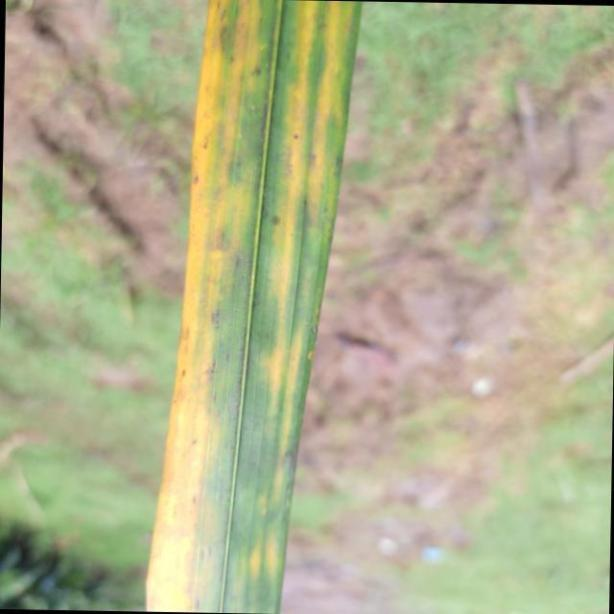Megnesium: (145, 0, 363, 614)
